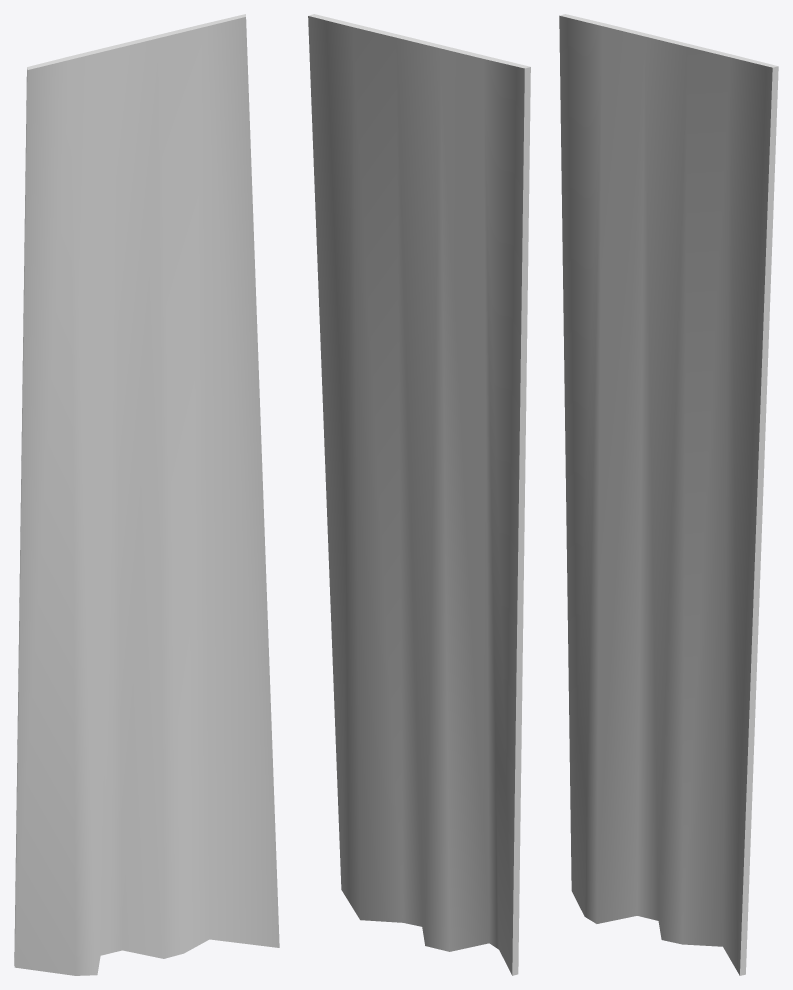
File: Curtains_020.glb
3 renders of one model, left to right at view 1: azimuth 30°, elevation 25°; view 2: azimuth 150°, elevation 25°; view 3: azimuth 330°, elevation 25°, orthographic. The views are drawn at different scales.
Parts seen in each view (by area): view 1: Curtains_020; view 2: Curtains_020; view 3: Curtains_020.
Part boxes in pixels (x1,y1,x2,y2): Curtains_020: [14, 14, 279, 975]; Curtains_020: [308, 14, 530, 975]; Curtains_020: [559, 14, 778, 975].
Bounding box in the file's own units: 0.6905 × 2.7 × 0.267.
Materials: 1 (1 with a texture image).
